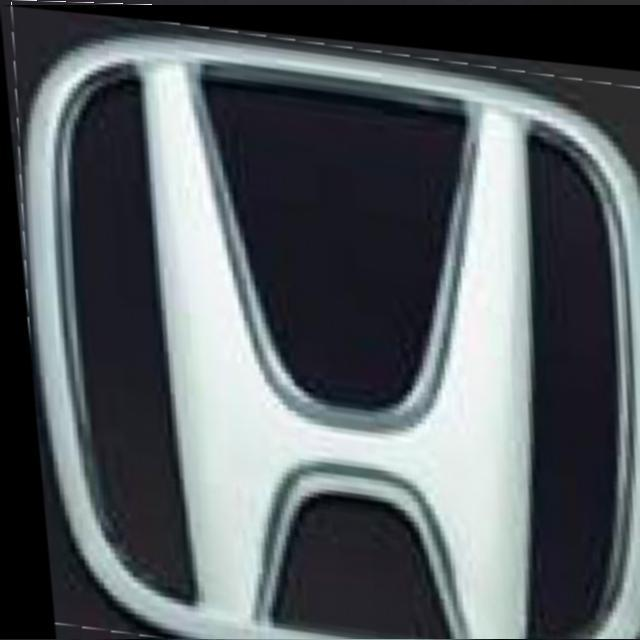Honda: (0, 5, 640, 639)
